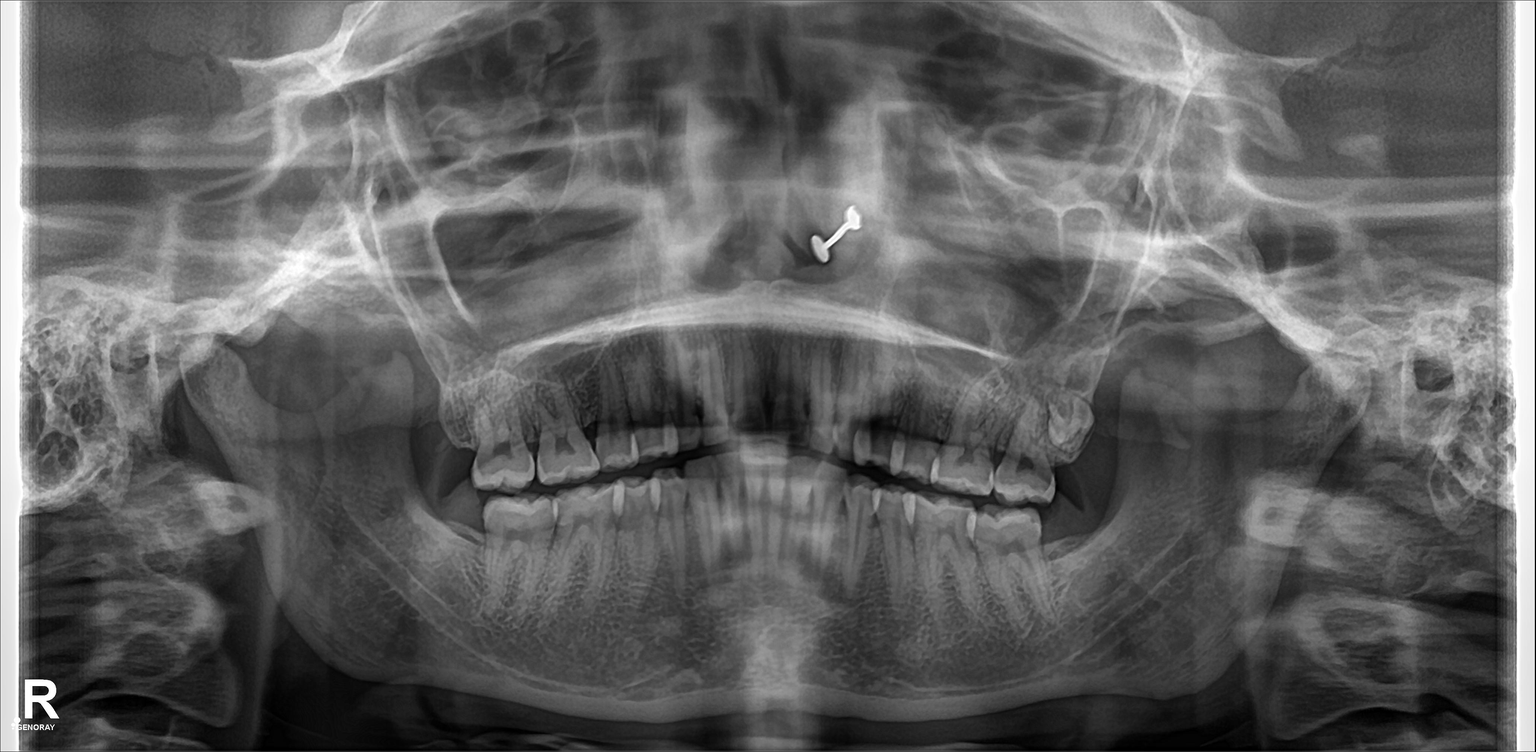Impacted Third Molar: (1030, 391, 1104, 466)
Missing Tooth: (412, 486, 480, 587), (410, 389, 469, 468), (1041, 516, 1095, 567)
